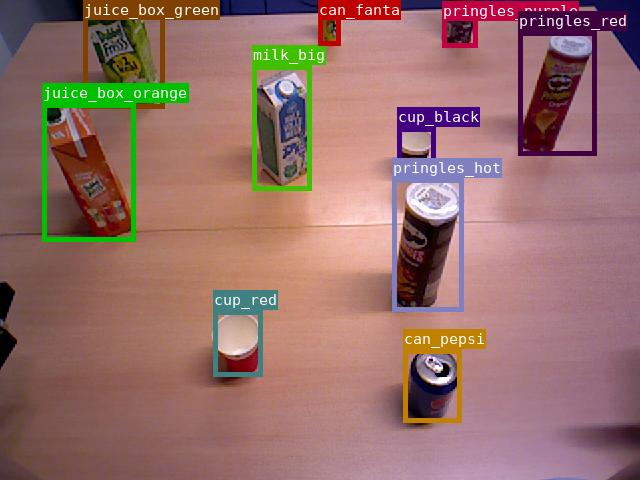can_fanta: (318, 0, 340, 45)
can_pepsi: (403, 349, 461, 422)
cup_black: (397, 127, 435, 182)
cup_red: (213, 310, 262, 376)
juice_box_green: (83, 0, 164, 108)
juice_box_orange: (42, 103, 135, 241)
milk_big: (252, 65, 311, 190)
pringles_hot: (392, 178, 463, 311)
pringles_purple: (442, 1, 477, 47)
pringles_red: (518, 31, 596, 155)
